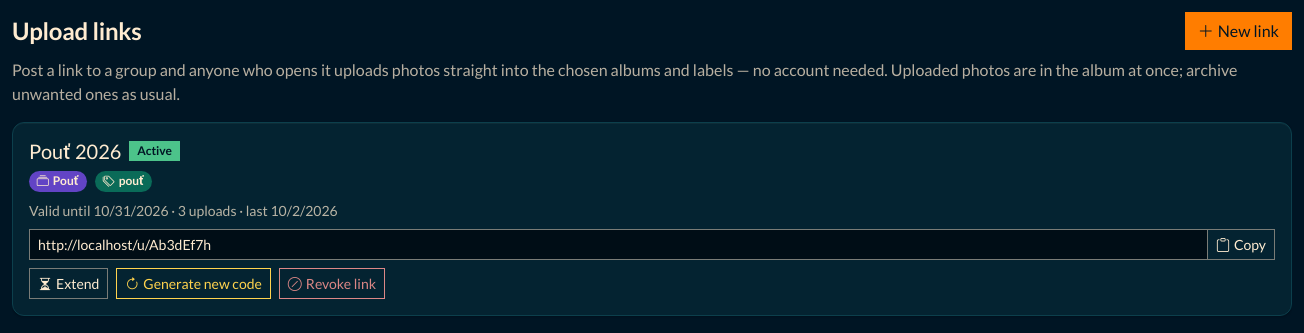
Test case: UploadLinksPage › copies a live link’s absolute address from its card
Click the button "Copy". click: (1241, 244)
box: [1207,229,1275,260]
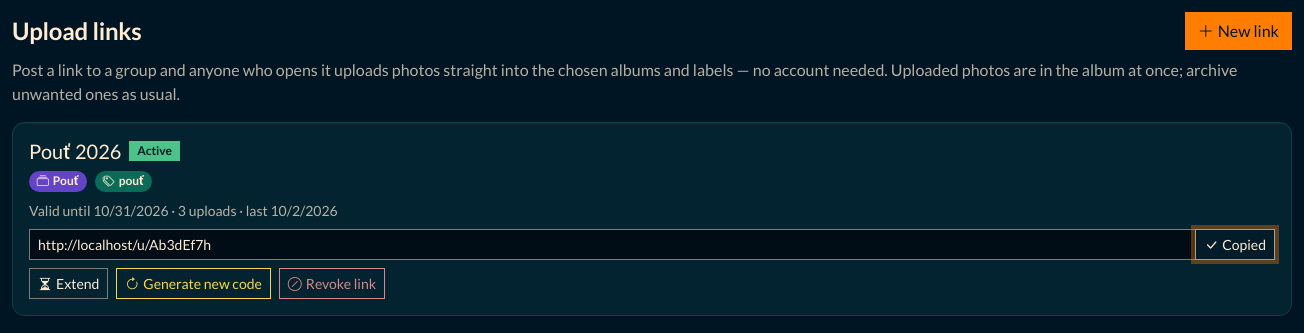
Expected: the button "Copied" is shown, [1195,229,1275,260]
